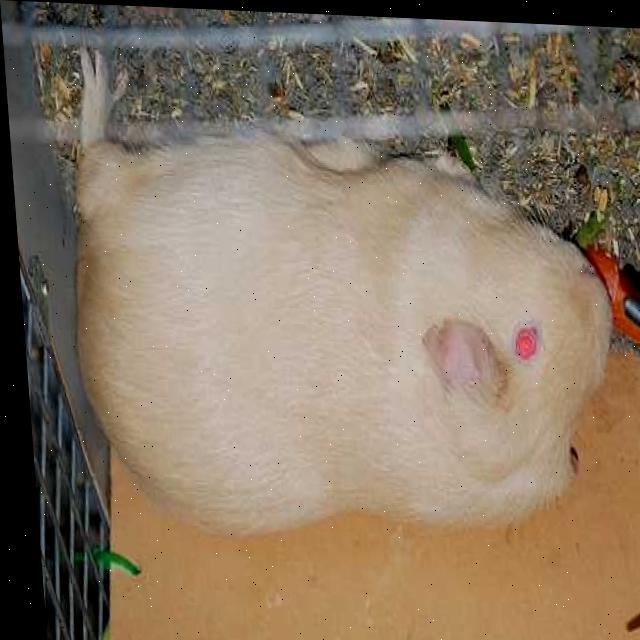guinea pig: (62, 112, 617, 538)
